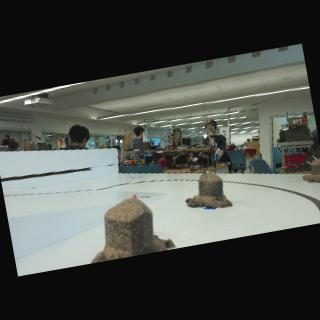teletubby: (132, 194, 137, 199), (207, 171, 209, 173)
